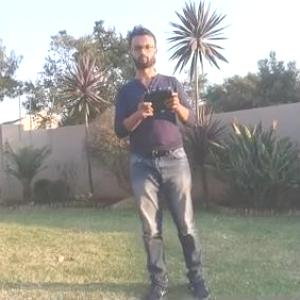follow: (113, 17, 220, 299)
